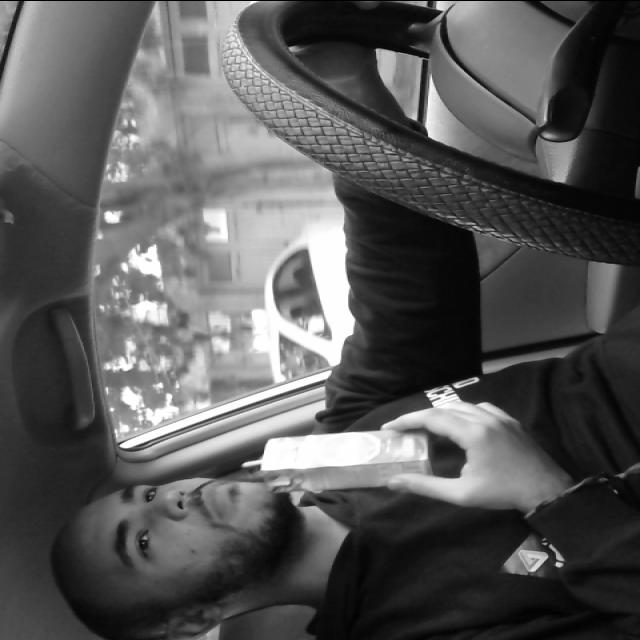drinking: (227, 421, 435, 495)
